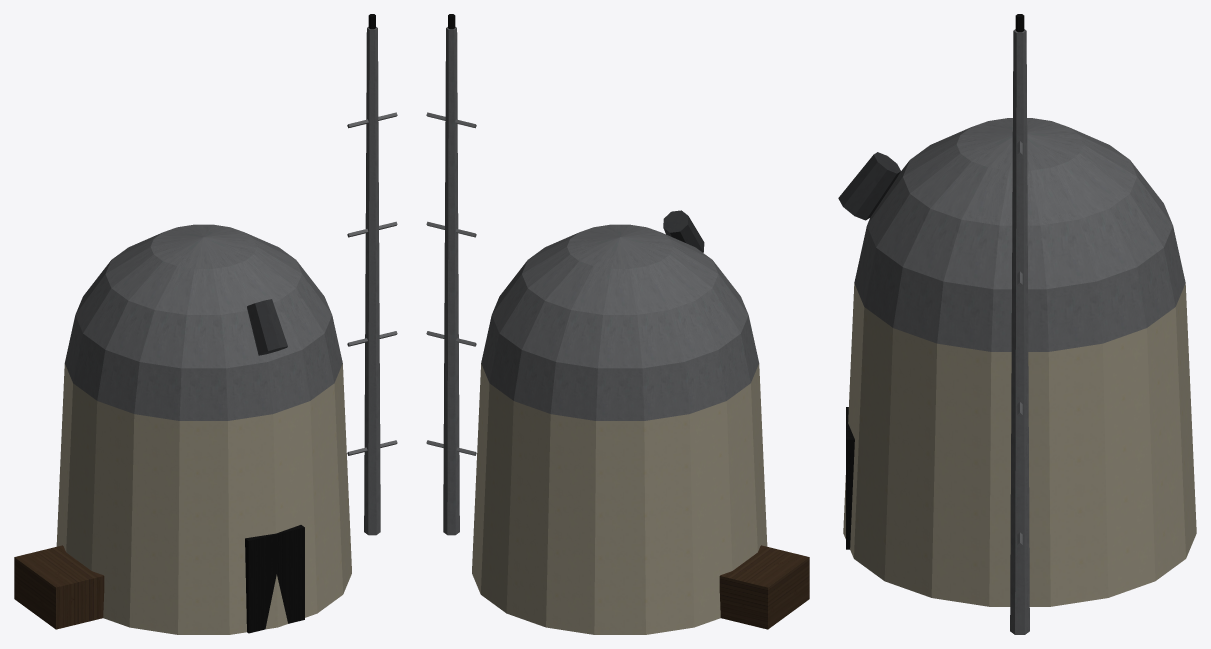
Rendered from frost_observatory_01.glb.
3 views of the same model, side by side, from view 1: azimuth 30°, elevation 25°; view 2: azimuth 150°, elevation 25°; view 3: azimuth 270°, elevation 25° (orthographic). The views are drawn at different scales.
Parts seen in each view (by area): view 1: frost_observatory_01; view 2: frost_observatory_01; view 3: frost_observatory_01.
Boxes of the visible parts, x1,y1,x2,y2 form: frost_observatory_01: [14, 14, 397, 634]; frost_observatory_01: [426, 14, 809, 634]; frost_observatory_01: [838, 14, 1196, 634].
Size of the model in its own units: 9 by 12.3 by 6.49.
5 materials, 5 textured.
